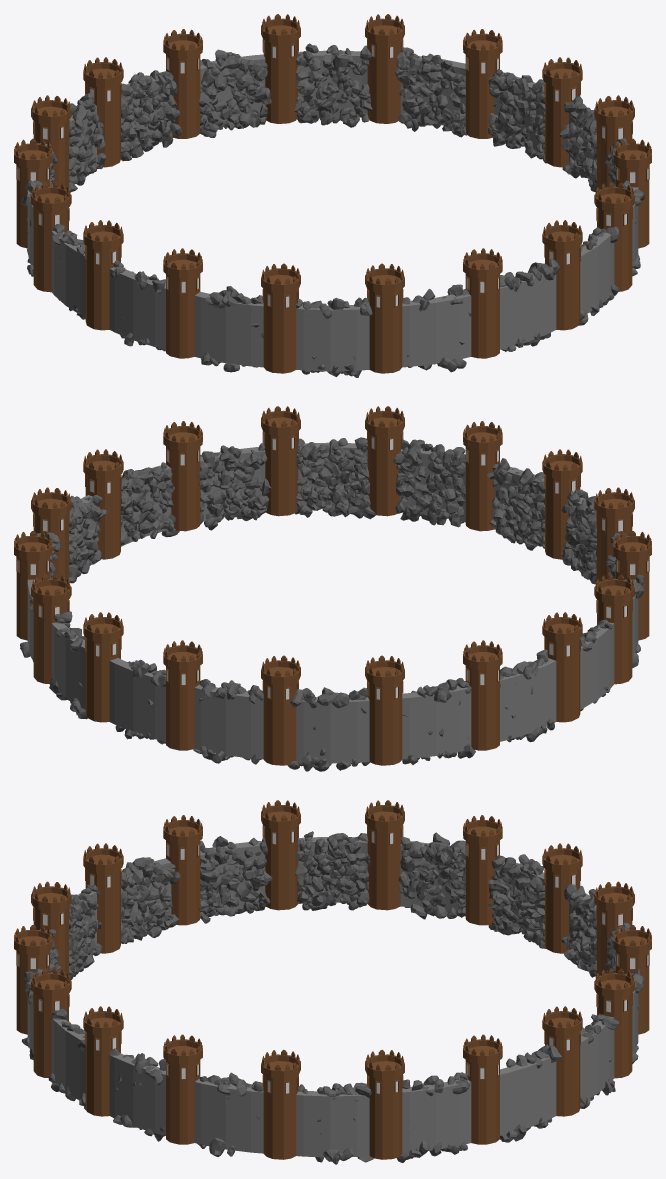
Rendered from Muralla.fbx.
The picture shows the model from 3 angles, top to bottom: view 1: azimuth 30°, elevation 25°; view 2: azimuth 150°, elevation 25°; view 3: azimuth 270°, elevation 25°; orthographic projection.
Visible parts, largest first — view 1: Castillo, Castillo.001; view 2: Castillo, Castillo.001; view 3: Castillo, Castillo.001.
Part boxes in pixels (x1=…): Castillo: x1=14, y1=14, x2=651, y2=373; Castillo.001: x1=27, y1=50, x2=638, y2=371; Castillo: x1=14, y1=406, x2=651, y2=765; Castillo.001: x1=27, y1=442, x2=638, y2=763; Castillo: x1=14, y1=800, x2=651, y2=1159; Castillo.001: x1=27, y1=837, x2=638, y2=1157.
Size of the model in its own units: 21032 by 3920 by 21281.
